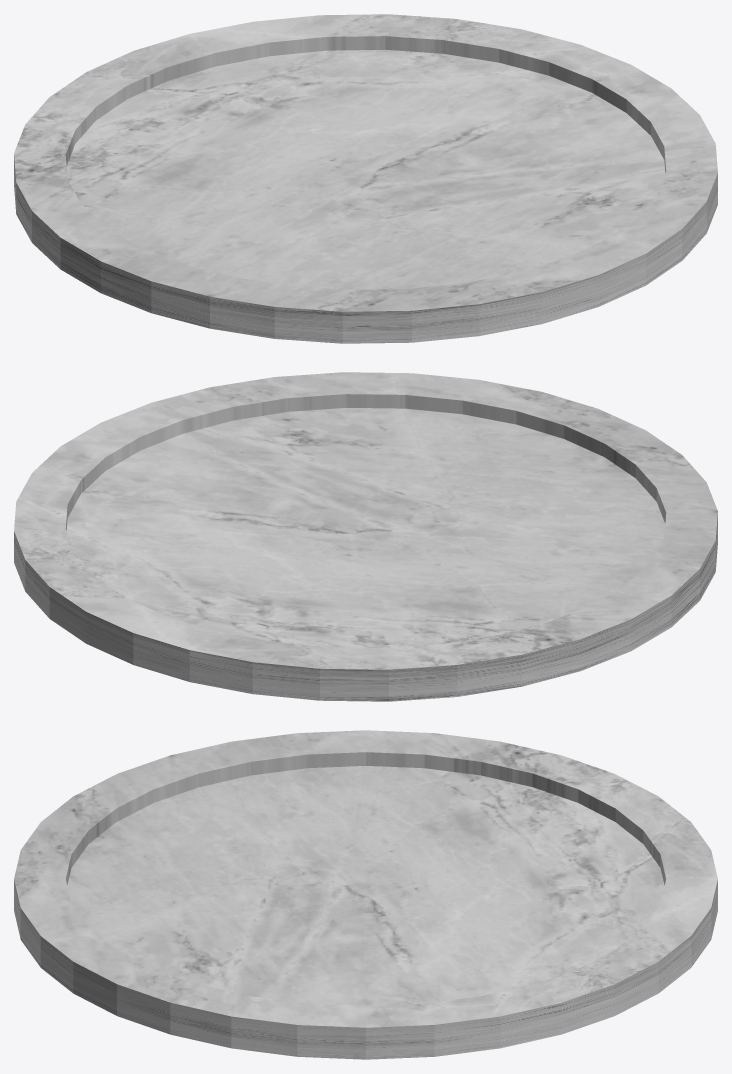
The model's file is plato.fbx.
3 renders of one model, top to bottom at view 1: azimuth 30°, elevation 25°; view 2: azimuth 150°, elevation 25°; view 3: azimuth 270°, elevation 25°, orthographic.
Parts seen in each view (by area): view 1: plato; view 2: plato; view 3: plato.
Boxes of the visible parts, x1=… form: plato: x1=14, y1=14, x2=717, y2=343; plato: x1=14, y1=372, x2=717, y2=701; plato: x1=14, y1=730, x2=717, y2=1059.
Bounding box in the file's own units: 140 × 13 × 140.
Materials: 1 (1 with a texture image).
